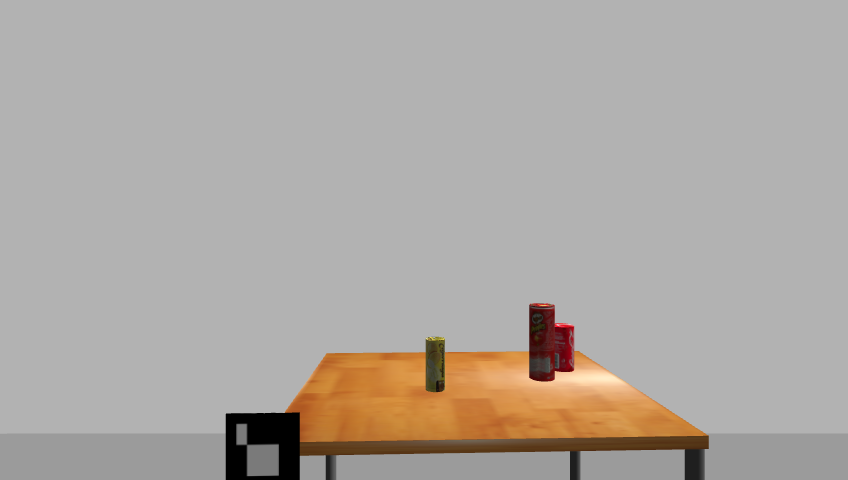aruco marker: (219, 411, 305, 480)
biscuits pack: (424, 337, 447, 395)
coke can: (552, 323, 577, 374)
dinner table: (274, 351, 715, 479)
pringles can: (526, 302, 556, 383)
